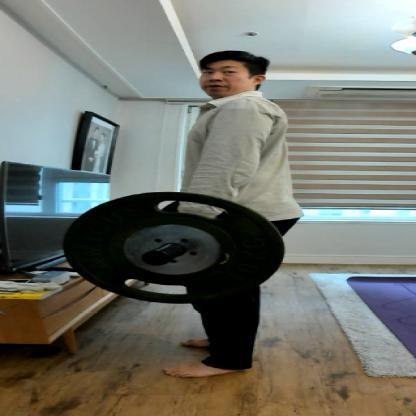Barbell: (138, 251, 174, 269)
